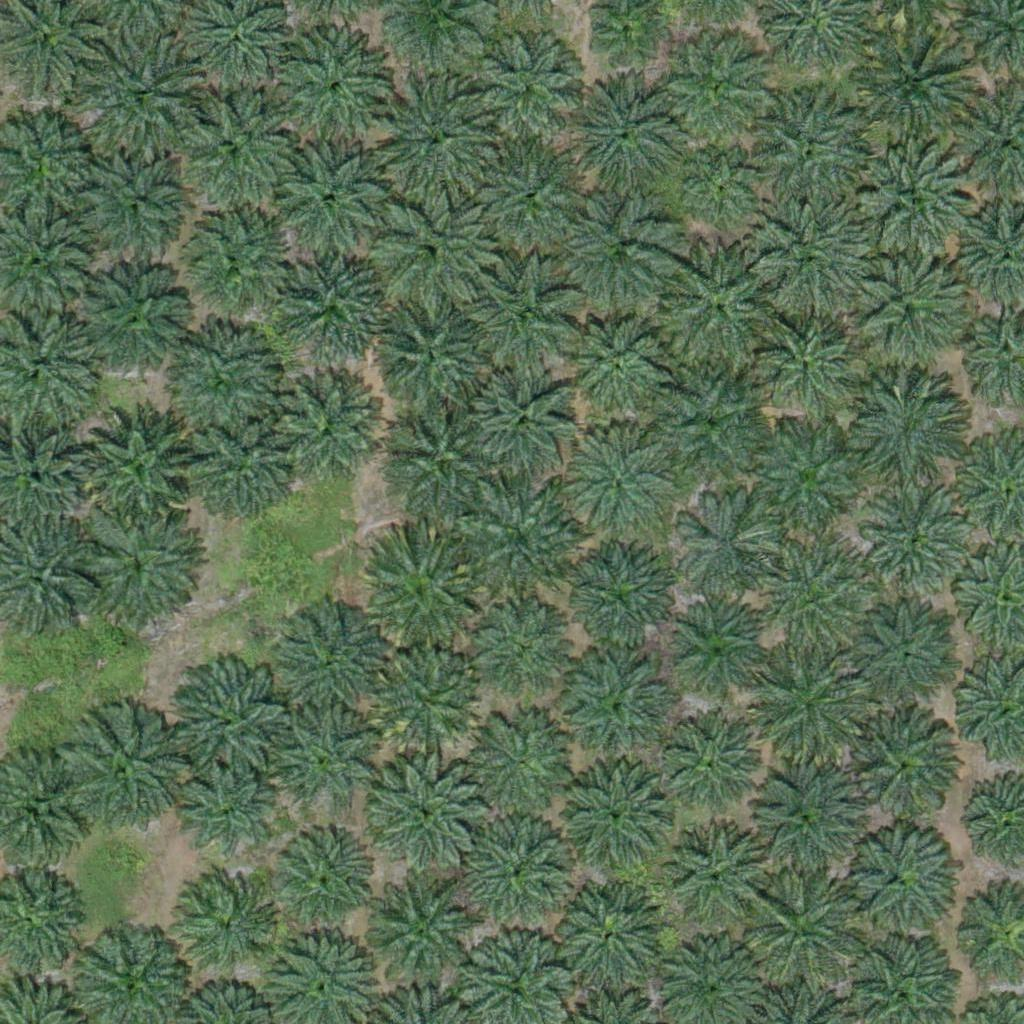Kelapa_Sawit: (161, 90, 286, 216), (74, 401, 199, 527), (78, 505, 203, 631), (371, 75, 496, 201), (367, 190, 492, 316), (663, 246, 788, 372), (749, 93, 874, 219), (165, 659, 290, 785), (59, 712, 184, 838), (166, 201, 291, 326), (155, 319, 280, 444), (358, 534, 483, 659), (472, 141, 585, 255), (469, 34, 582, 148), (845, 599, 958, 713), (75, 264, 188, 377), (76, 150, 189, 263), (89, 35, 202, 148), (181, 409, 294, 522), (468, 366, 581, 479), (465, 262, 578, 375), (564, 546, 677, 659), (755, 198, 868, 311), (849, 375, 962, 488), (852, 255, 965, 368), (857, 151, 970, 264), (749, 868, 862, 981), (554, 757, 667, 870), (372, 753, 485, 866), (369, 880, 482, 993), (564, 82, 676, 196), (566, 196, 678, 310), (654, 375, 766, 489), (749, 426, 861, 540), (863, 485, 975, 599), (845, 707, 957, 821), (840, 820, 952, 934), (754, 646, 866, 760), (272, 372, 384, 485), (279, 247, 391, 360), (271, 144, 383, 257), (276, 34, 388, 147), (376, 304, 488, 417), (383, 402, 495, 515), (465, 489, 577, 602), (753, 546, 865, 659), (858, 27, 970, 140), (747, 765, 859, 878), (550, 878, 662, 991), (463, 705, 575, 818), (464, 815, 576, 928), (572, 431, 672, 532), (666, 602, 766, 703), (666, 44, 766, 145), (659, 713, 759, 814), (663, 820, 763, 921), (567, 655, 667, 756), (470, 598, 570, 699), (376, 648, 476, 749), (286, 610, 386, 711), (274, 708, 374, 809), (270, 829, 370, 930), (176, 761, 276, 862), (565, 314, 665, 414), (672, 499, 772, 599), (758, 310, 858, 410), (174, 876, 274, 976), (687, 153, 762, 229)
